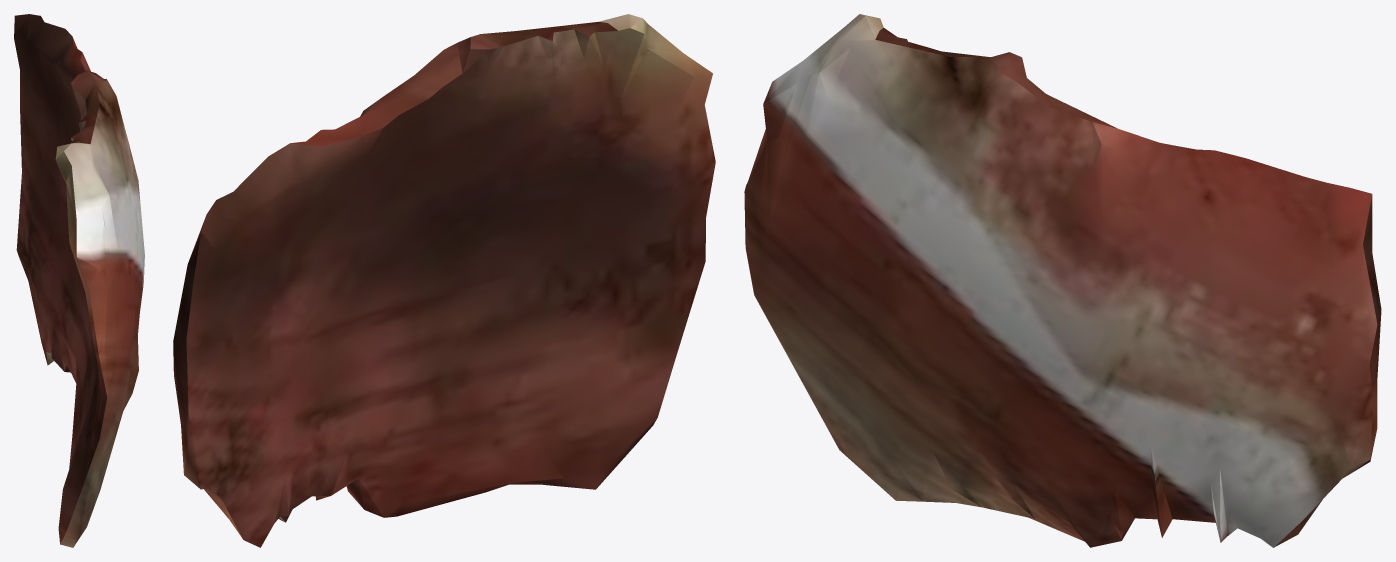
Rendered from o_mdl_env_propShellPieceB-transformed.glb.
The picture shows the model from 3 angles, left to right: view 1: azimuth 30°, elevation 25°; view 2: azimuth 150°, elevation 25°; view 3: azimuth 270°, elevation 25°; orthographic projection. The views are drawn at different scales.
Visible parts, largest first — view 1: default; view 2: default; view 3: default.
Part boxes in pixels (x1,y1,x2,y2): default: (14,14,144,547); default: (173,14,715,547); default: (744,14,1381,547).
Bounding box in the file's own units: 1 × 1.79 × 2.14.
Materials: 1 (1 with a texture image).
